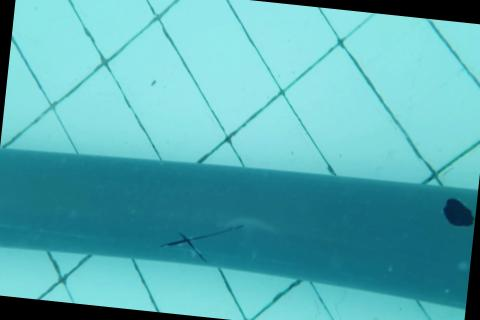kebocoran: (440, 196, 477, 227)
keretakan: (159, 214, 244, 265)
